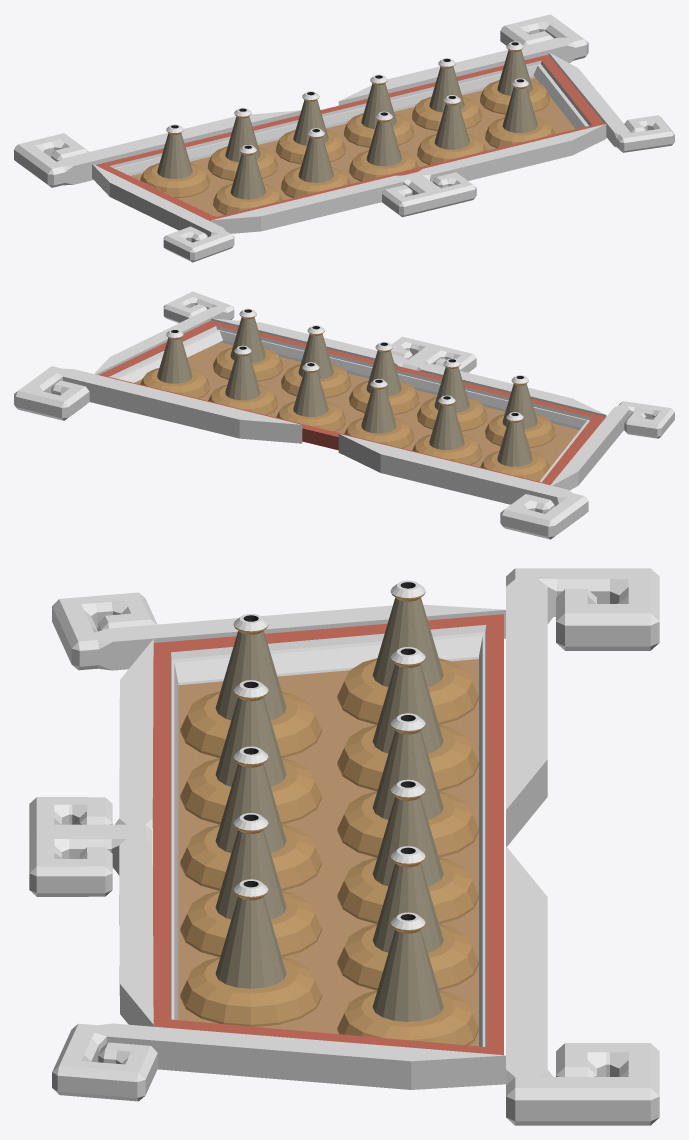
The model's file is Dardos pared 2.0.fbx.
3 renders of one model, top to bottom at view 1: azimuth 30°, elevation 25°; view 2: azimuth 150°, elevation 25°; view 3: azimuth 270°, elevation 25°, orthographic. The views are drawn at different scales.
Visible parts, largest first — view 1: Cube, Plane, Plane.001, Circle, Circle.006, Circle.008, Circle.009, Circle.007, Circle.010, Circle.002, Circle.003, Circle.004 (+2 smaller); view 2: Cube, Plane, Plane.001, Circle.004, Circle.005, Circle.003, Circle.001, Circle.002, Circle, Circle.006, Circle.009, Circle.008 (+2 smaller); view 3: Cube, Plane, Circle.010, Plane.001, Circle.005, Circle.003, Circle.004, Circle.001, Circle.008, Circle.009, Circle.002, Circle.006 (+2 smaller).
Part boxes in pixels (left/top/right/bottom): Cube: left=14, top=14, right=674, bottom=262; Plane: left=95, top=54, right=606, bottom=221; Plane.001: left=114, top=64, right=588, bottom=215; Circle: left=140, top=124, right=209, bottom=198; Circle.006: left=213, top=145, right=282, bottom=214; Circle.008: left=349, top=111, right=418, bottom=181; Circle.009: left=417, top=95, right=486, bottom=164; Circle.007: left=281, top=128, right=350, bottom=197; Circle.010: left=485, top=78, right=554, bottom=148; Circle.002: left=275, top=91, right=345, bottom=164; Circle.003: left=343, top=74, right=413, bottom=147; Circle.004: left=412, top=58, right=481, bottom=131; Cube: left=14, top=291, right=674, bottom=539; Plane: left=99, top=320, right=605, bottom=485; Plane.001: left=115, top=329, right=589, bottom=482; Circle.004: left=208, top=345, right=277, bottom=415; Circle.005: left=140, top=329, right=209, bottom=398; Circle.003: left=276, top=362, right=345, bottom=431; Circle.001: left=412, top=395, right=481, bottom=464; Circle.002: left=344, top=379, right=413, bottom=448; Circle: left=480, top=412, right=549, bottom=481; Circle.006: left=485, top=375, right=555, bottom=448; Circle.009: left=281, top=325, right=351, bottom=398; Circle.008: left=349, top=342, right=419, bottom=415; Cube: left=29, top=568, right=659, bottom=1125; Plane: left=153, top=614, right=503, bottom=1055; Circle.010: left=180, top=879, right=321, bottom=1026; Plane.001: left=171, top=632, right=485, bottom=1046; Circle.005: left=337, top=912, right=478, bottom=1045; Circle.003: left=337, top=779, right=478, bottom=923; Circle.004: left=337, top=846, right=478, bottom=990; Circle.001: left=337, top=647, right=478, bottom=791; Circle.008: left=180, top=746, right=321, bottom=890; Circle.009: left=180, top=813, right=321, bottom=956; Circle.002: left=337, top=713, right=478, bottom=857; Circle.006: left=180, top=613, right=321, bottom=757.
Size of the model in its own units: 199 by 20.12 by 100.
